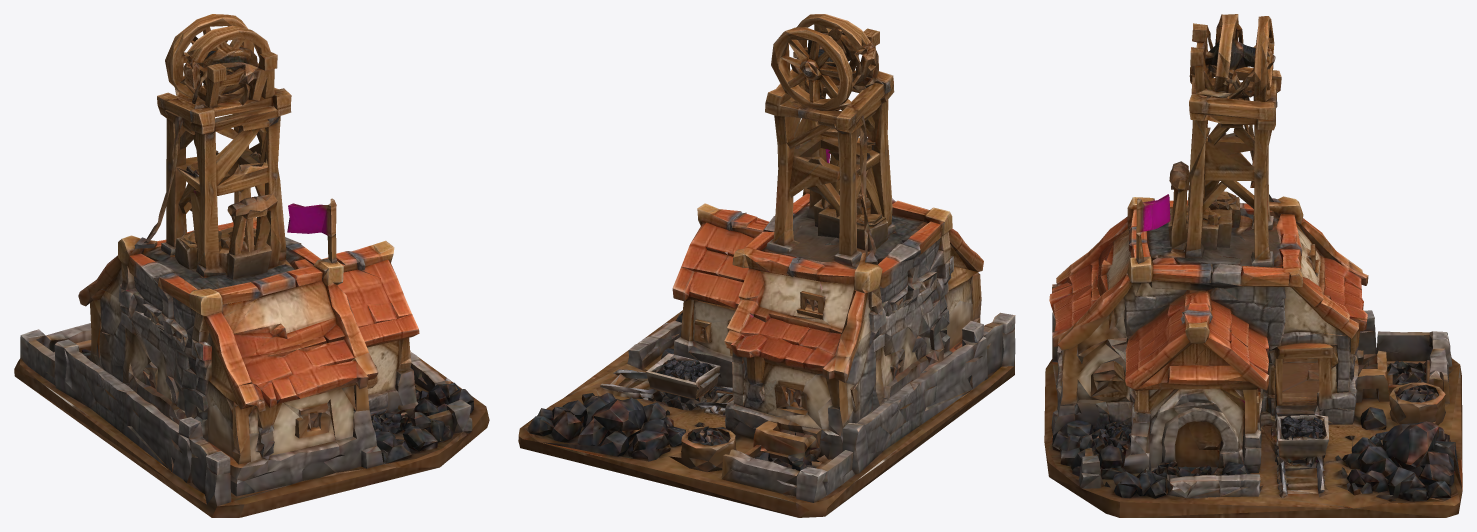
File: iron_mine3.glb
The picture shows the model from 3 angles, left to right: view 1: azimuth 30°, elevation 25°; view 2: azimuth 150°, elevation 25°; view 3: azimuth 270°, elevation 25°; orthographic projection.
Visible parts, largest first — view 1: Mesh_0; view 2: Mesh_0; view 3: Mesh_0.
Part boxes in pixels (left/top/right/bottom): Mesh_0: left=14, top=14, right=489, bottom=517; Mesh_0: left=518, top=14, right=1015, bottom=517; Mesh_0: left=1044, top=14, right=1462, bottom=517.
Size of the model in its own units: 1.56 by 1.9 by 1.81.
1 material, 1 textured.
